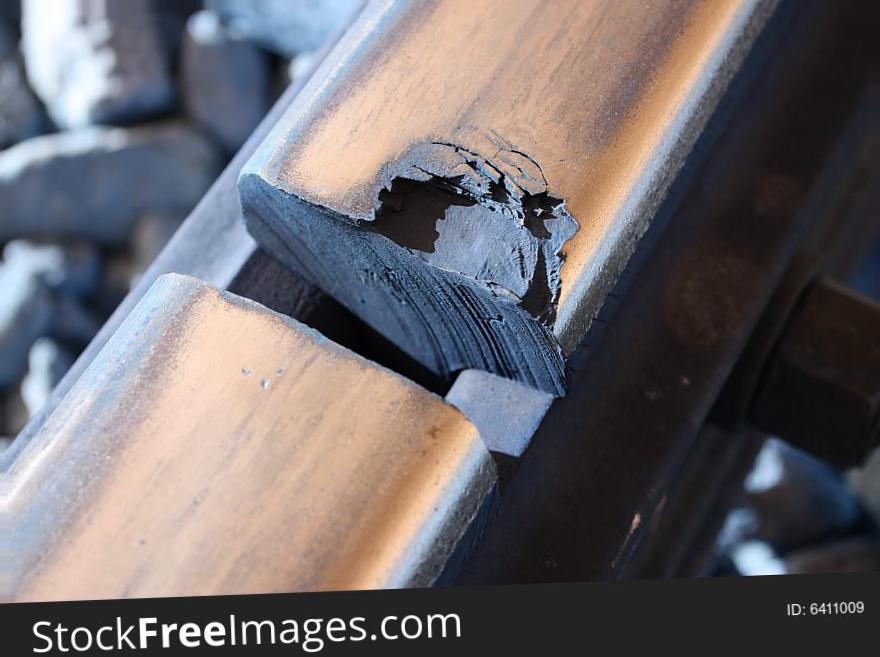tracks_fault: (95, 75, 626, 499)
